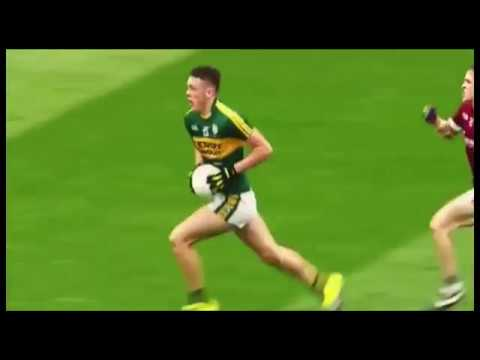ball: (190, 163, 221, 195)
player: (172, 67, 290, 295), (422, 57, 475, 304)
